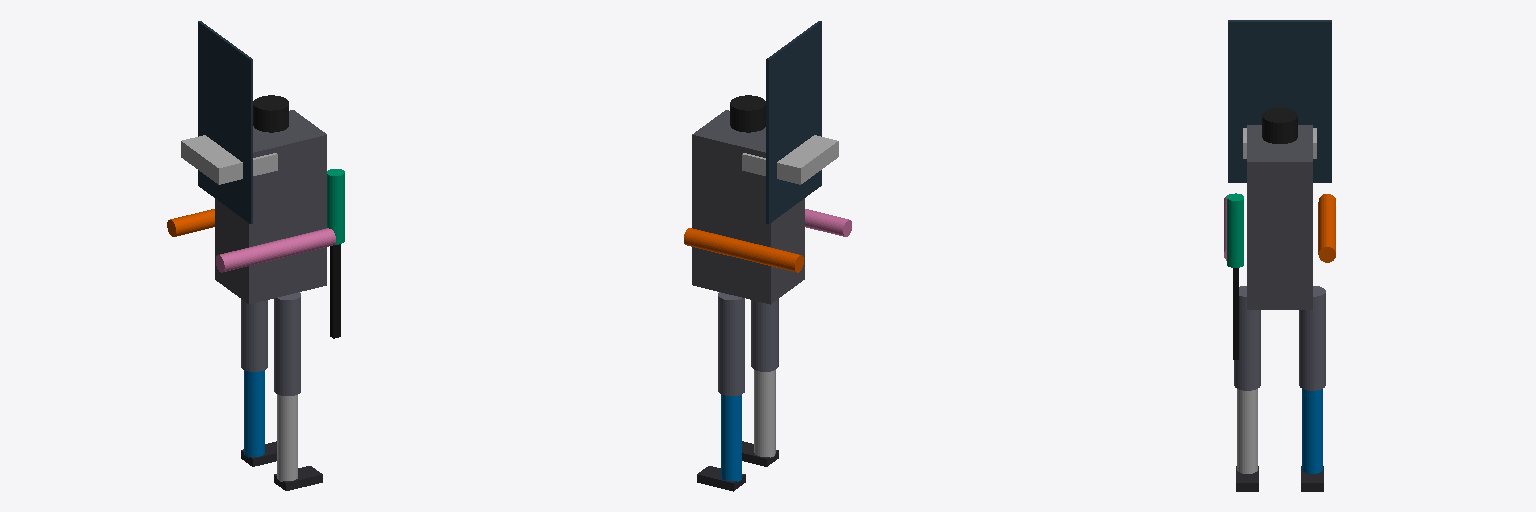
URDF robot description (acsr):
<?xml version="1.0" ?>
<!-- =================================================================================== -->
<!-- |    This document was autogenerated by xacro from src/acsr_description/urdf/acsr.urdf.xacro | -->
<!-- |    EDITING THIS FILE BY HAND IS NOT RECOMMENDED                                 | -->
<!-- =================================================================================== -->
<robot name="acsr">
  <!-- Base / torso: 1.1m tall, ~0.6m wide, holds 110kg battery low -->
  <link name="base_link">
    <inertial>
      <origin rpy="0 0 0" xyz="0 0 0.85"/>
      <mass value="150.0"/>
      <inertia ixx="12.0" ixy="0.0" ixz="0.0" iyy="12.0" iyz="0.0" izz="6.0"/>
    </inertial>
    <visual>
      <origin rpy="0 0 0" xyz="0 0 0.85"/>
      <geometry>
        <box size="0.6 0.45 1.1"/>
      </geometry>
      <material name="torso_mat">
        <color rgba="0.35 0.35 0.38 1.0"/>
      </material>
    </visual>
    <collision>
      <origin rpy="0 0 0" xyz="0 0 0.85"/>
      <geometry>
        <box size="0.6 0.45 1.1"/>
      </geometry>
    </collision>
  </link>
  <!-- Chest battery (low CoM) — fixed to base -->
  <link name="chest_battery">
    <inertial>
      <origin rpy="0 0 0" xyz="0.08 0 0.75"/>
      <mass value="110.0"/>
      <inertia ixx="4.5" ixy="0" ixz="0" iyy="4.5" iyz="0" izz="2.2"/>
    </inertial>
    <visual>
      <origin rpy="0 0 0" xyz="0.08 0 0.75"/>
      <geometry>
        <box size="0.35 0.3 0.25"/>
      </geometry>
      <material name="battery_mat">
        <color rgba="0.1 0.6 0.2 1.0"/>
      </material>
    </visual>
  </link>
  <joint name="battery_fixed" type="fixed">
    <parent link="base_link"/>
    <child link="chest_battery"/>
    <origin rpy="0 0 0" xyz="0 0 0"/>
  </joint>
  <!-- Sensor head: LiDAR + cameras — Jetson Orin mount -->
  <link name="sensor_head">
    <inertial>
      <origin rpy="0 0 0" xyz="0 0 0.08"/>
      <mass value="8.0"/>
      <inertia ixx="0.08" ixy="0" ixz="0" iyy="0.08" iyz="0" izz="0.08"/>
    </inertial>
    <visual>
      <origin rpy="0 0 0" xyz="0 0 0.08"/>
      <geometry>
        <cylinder length="0.16" radius="0.12"/>
      </geometry>
      <material name="head_mat">
        <color rgba="0.15 0.15 0.15 1.0"/>
      </material>
    </visual>
  </link>
  <joint name="head_yaw" type="revolute">
    <parent link="base_link"/>
    <child link="sensor_head"/>
    <origin rpy="0 0 0" xyz="0 0 1.45"/>
    <axis xyz="0 0 1"/>
    <limit effort="30" lower="-1.57" upper="1.57" velocity="3.0"/>
  </joint>
  <link name="left_thigh">
    <inertial>
      <origin rpy="0 0 0" xyz="0 0 -0.35"/>
      <mass value="42.0"/>
      <inertia ixx="2.8" ixy="0" ixz="0" iyy="2.8" iyz="0" izz="0.9"/>
    </inertial>
    <visual>
      <origin rpy="0 0 0" xyz="0 0 -0.35"/>
      <geometry>
        <cylinder length="0.70" radius="0.09"/>
      </geometry>
      <material name="leg_mat">
        <color rgba="0.4 0.4 0.45 1.0"/>
      </material>
    </visual>
    <collision>
      <origin rpy="0 0 0" xyz="0 0 -0.35"/>
      <geometry>
        <cylinder length="0.70" radius="0.09"/>
      </geometry>
    </collision>
  </link>
  <joint name="left_hip_pitch" type="revolute">
    <parent link="base_link"/>
    <child link="left_thigh"/>
    <origin rpy="0 0 0" xyz="0 0.22 0.30"/>
    <axis xyz="0 1 0"/>
    <limit effort="900" lower="-0.8" upper="1.2" velocity="2.0"/>
    <dynamics damping="25" friction="5"/>
  </joint>
  <link name="left_shin">
    <inertial>
      <origin rpy="0 0 0" xyz="0 0 -0.32"/>
      <mass value="28.0"/>
      <inertia ixx="1.4" ixy="0" ixz="0" iyy="1.4" iyz="0" izz="0.45"/>
    </inertial>
    <visual>
      <origin rpy="0 0 0" xyz="0 0 -0.32"/>
      <geometry>
        <cylinder length="0.64" radius="0.07"/>
      </geometry>
    </visual>
    <collision>
      <origin rpy="0 0 0" xyz="0 0 -0.32"/>
      <geometry>
        <cylinder length="0.64" radius="0.07"/>
      </geometry>
    </collision>
  </link>
  <joint name="left_knee" type="revolute">
    <parent link="left_thigh"/>
    <child link="left_shin"/>
    <origin rpy="0 0 0" xyz="0 0 -0.70"/>
    <axis xyz="0 1 0"/>
    <limit effort="900" lower="0" upper="2.2" velocity="2.2"/>
    <dynamics damping="20" friction="5"/>
  </joint>
  <link name="left_foot">
    <inertial>
      <origin rpy="0 0 0" xyz="0.08 0 -0.02"/>
      <mass value="9.0"/>
      <inertia ixx="0.12" ixy="0" ixz="0" iyy="0.20" iyz="0" izz="0.18"/>
    </inertial>
    <visual>
      <origin rpy="0 0 0" xyz="0.08 0 -0.02"/>
      <geometry>
        <box size="0.28 0.16 0.06"/>
      </geometry>
      <material name="foot_mat">
        <color rgba="0.2 0.2 0.22 1.0"/>
      </material>
    </visual>
    <collision>
      <origin rpy="0 0 0" xyz="0.08 0 -0.02"/>
      <geometry>
        <box size="0.28 0.16 0.06"/>
      </geometry>
    </collision>
  </link>
  <joint name="left_ankle" type="revolute">
    <parent link="left_shin"/>
    <child link="left_foot"/>
    <origin rpy="0 0 0" xyz="0 0 -0.64"/>
    <axis xyz="0 1 0"/>
    <limit effort="400" lower="-0.6" upper="0.6" velocity="3.0"/>
  </joint>
  <link name="right_thigh">
    <inertial>
      <origin rpy="0 0 0" xyz="0 0 -0.35"/>
      <mass value="42.0"/>
      <inertia ixx="2.8" ixy="0" ixz="0" iyy="2.8" iyz="0" izz="0.9"/>
    </inertial>
    <visual>
      <origin rpy="0 0 0" xyz="0 0 -0.35"/>
      <geometry>
        <cylinder length="0.70" radius="0.09"/>
      </geometry>
      <material name="leg_mat">
        <color rgba="0.4 0.4 0.45 1.0"/>
      </material>
    </visual>
    <collision>
      <origin rpy="0 0 0" xyz="0 0 -0.35"/>
      <geometry>
        <cylinder length="0.70" radius="0.09"/>
      </geometry>
    </collision>
  </link>
  <joint name="right_hip_pitch" type="revolute">
    <parent link="base_link"/>
    <child link="right_thigh"/>
    <origin rpy="0 0 0" xyz="0 -0.22 0.30"/>
    <axis xyz="0 1 0"/>
    <limit effort="900" lower="-0.8" upper="1.2" velocity="2.0"/>
    <dynamics damping="25" friction="5"/>
  </joint>
  <link name="right_shin">
    <inertial>
      <origin rpy="0 0 0" xyz="0 0 -0.32"/>
      <mass value="28.0"/>
      <inertia ixx="1.4" ixy="0" ixz="0" iyy="1.4" iyz="0" izz="0.45"/>
    </inertial>
    <visual>
      <origin rpy="0 0 0" xyz="0 0 -0.32"/>
      <geometry>
        <cylinder length="0.64" radius="0.07"/>
      </geometry>
    </visual>
    <collision>
      <origin rpy="0 0 0" xyz="0 0 -0.32"/>
      <geometry>
        <cylinder length="0.64" radius="0.07"/>
      </geometry>
    </collision>
  </link>
  <joint name="right_knee" type="revolute">
    <parent link="right_thigh"/>
    <child link="right_shin"/>
    <origin rpy="0 0 0" xyz="0 0 -0.70"/>
    <axis xyz="0 1 0"/>
    <limit effort="900" lower="0" upper="2.2" velocity="2.2"/>
    <dynamics damping="20" friction="5"/>
  </joint>
  <link name="right_foot">
    <inertial>
      <origin rpy="0 0 0" xyz="0.08 0 -0.02"/>
      <mass value="9.0"/>
      <inertia ixx="0.12" ixy="0" ixz="0" iyy="0.20" iyz="0" izz="0.18"/>
    </inertial>
    <visual>
      <origin rpy="0 0 0" xyz="0.08 0 -0.02"/>
      <geometry>
        <box size="0.28 0.16 0.06"/>
      </geometry>
      <material name="foot_mat">
        <color rgba="0.2 0.2 0.22 1.0"/>
      </material>
    </visual>
    <collision>
      <origin rpy="0 0 0" xyz="0.08 0 -0.02"/>
      <geometry>
        <box size="0.28 0.16 0.06"/>
      </geometry>
    </collision>
  </link>
  <joint name="right_ankle" type="revolute">
    <parent link="right_shin"/>
    <child link="right_foot"/>
    <origin rpy="0 0 0" xyz="0 0 -0.64"/>
    <axis xyz="0 1 0"/>
    <limit effort="400" lower="-0.6" upper="0.6" velocity="3.0"/>
  </joint>
  <!-- Shield: 1.2x0.7m 18kg boron-carbide — pivot arm on shoulder -->
  <link name="shield">
    <inertial>
      <origin rpy="0 0 0" xyz="0 0 0.60"/>
      <mass value="18.0"/>
      <inertia ixx="2.1" ixy="0" ixz="0" iyy="0.9" iyz="0" izz="2.4"/>
    </inertial>
    <visual>
      <origin rpy="0 0 0" xyz="0 0 0.60"/>
      <geometry>
        <box size="0.02 0.70 1.20"/>
      </geometry>
      <material name="shield_mat">
        <color rgba="0.18 0.25 0.30 1.0"/>
      </material>
    </visual>
    <collision>
      <origin rpy="0 0 0" xyz="0 0 0.60"/>
      <geometry>
        <box size="0.02 0.70 1.20"/>
      </geometry>
    </collision>
  </link>
  <joint name="shield_pivot" type="revolute">
    <parent link="base_link"/>
    <child link="shield"/>
    <origin rpy="0 0 0" xyz="-0.35 0 0.95"/>
    <axis xyz="0 1 0"/>
    <!-- 0 = stowed on back, 1.57 = deployed forward (riot brace geometry) -->
    <limit effort="250" lower="0" upper="1.70" velocity="1.5"/>
    <dynamics damping="15" friction="2"/>
  </joint>
  <!-- Arms / weapons TF -->
  <link name="right_arm">
    <inertial>
      <mass value="18.0"/>
      <inertia ixx="0.6" ixy="0" ixz="0" iyy="0.6" iyz="0" izz="0.3"/>
      <origin xyz="0 0 -0.25"/>
    </inertial>
    <visual>
      <origin xyz="0 0 -0.25"/>
      <geometry>
        <cylinder length="0.50" radius="0.06"/>
      </geometry>
    </visual>
  </link>
  <joint name="right_shoulder" type="revolute">
    <parent link="base_link"/>
    <child link="right_arm"/>
    <origin rpy="0 0 0" xyz="0.32 -0.30 1.15"/>
    <axis xyz="0 1 0"/>
    <limit effort="300" lower="-0.5" upper="1.8" velocity="2.0"/>
  </joint>
  <link name="rifle">
    <inertial>
      <mass value="4.2"/>
      <inertia ixx="0.04" ixy="0" ixz="0" iyy="0.04" iyz="0" izz="0.02"/>
      <origin xyz="0 0 0"/>
    </inertial>
    <visual>
      <origin xyz="0.35 0 0"/>
      <geometry>
        <box size="0.70 0.04 0.06"/>
      </geometry>
      <material name="rifle_mat">
        <color rgba="0.12 0.12 0.12 1.0"/>
      </material>
    </visual>
  </link>
  <joint name="rifle_fixed" type="fixed">
    <parent link="right_arm"/>
    <child link="rifle"/>
    <origin rpy="0 1.57 0" xyz="0 0 -0.50"/>
  </joint>
  <!-- 40mm launcher underslung TF -->
  <link name="launcher">
    <inertial>
      <mass value="1.8"/>
      <inertia ixx="0.01" ixy="0" ixz="0" iyy="0.01" iyz="0" izz="0.01"/>
      <origin xyz="0 0 0"/>
    </inertial>
  </link>
  <joint name="launcher_fixed" type="fixed">
    <parent link="rifle"/>
    <child link="launcher"/>
    <origin rpy="0 0 0" xyz="0.10 0 -0.04"/>
  </joint>
  <!-- Missile pylons (Spike SR 4kg each, x2) -->
  <link name="missile_left">
    <inertial>
      <mass value="4.0"/>
      <inertia ixx="0.03" ixy="0" ixz="0" iyy="0.03" iyz="0" izz="0.02"/>
      <origin xyz="0 0 0"/>
    </inertial>
    <visual>
      <origin xyz="0 0 0"/>
      <geometry>
        <cylinder length="0.85" radius="0.06"/>
      </geometry>
    </visual>
  </link>
  <joint name="missile_left_fixed" type="fixed">
    <parent link="base_link"/>
    <child link="missile_left"/>
    <origin rpy="0 1.57 0" xyz="-0.15 0.32 0.70"/>
  </joint>
  <link name="missile_right">
    <inertial>
      <mass value="4.0"/>
      <inertia ixx="0.03" ixy="0" ixz="0" iyy="0.03" iyz="0" izz="0.02"/>
      <origin xyz="0 0 0"/>
    </inertial>
    <visual>
      <origin xyz="0 0 0"/>
      <geometry>
        <cylinder length="0.85" radius="0.06"/>
      </geometry>
    </visual>
  </link>
  <joint name="missile_right_fixed" type="fixed">
    <parent link="base_link"/>
    <child link="missile_right"/>
    <origin rpy="0 1.57 0" xyz="-0.15 -0.32 0.70"/>
  </joint>
  <!-- Drone bay (2x 6kg fold-flat fixed-wing) -->
  <link name="drone_bay">
    <inertial>
      <mass value="12.0"/>
      <inertia ixx="0.4" ixy="0" ixz="0" iyy="0.4" iyz="0" izz="0.2"/>
      <origin xyz="0 0 0"/>
    </inertial>
    <visual>
      <origin xyz="0 0 0"/>
      <geometry>
        <box size="0.45 0.50 0.12"/>
      </geometry>
    </visual>
  </link>
  <joint name="drone_bay_fixed" type="fixed">
    <parent link="base_link"/>
    <child link="drone_bay"/>
    <origin rpy="0 0 0" xyz="-0.32 0 1.30"/>
  </joint>
  <!-- Gazebo plugins (ros2_control + sensors) -->
  <gazebo>
    <plugin filename="libgz_ros2_control-system.so" name="gz_ros2_control">
      <parameters>config/ros2_controllers.yaml</parameters>
    </plugin>
  </gazebo>
  <!-- Sensor head: camera + lidar (gz sensors) -->
  <gazebo reference="sensor_head">
    <sensor name="head_camera" type="camera">
      <camera>
        <image>
          <width>1280</width>
          <height>720</height>
        </image>
        <clip>
          <near>0.1</near>
          <far>80</far>
        </clip>
      </camera>
      <always_on>true</always_on>
      <update_rate>30</update_rate>
      <topic>/camera/image_raw</topic>
      <gz:topic xmlns:gz="http://gazebosim.org/schema">/camera/image_raw</gz:topic>
    </sensor>
    <sensor name="head_lidar" type="gpu_lidar">
      <lidar>
        <scan>
          <horizontal>
            <samples>1024</samples>
            <min_angle>-1.5708</min_angle>
            <max_angle>1.5708</max_angle>
          </horizontal>
        </scan>
        <range>
          <min>0.2</min>
          <max>60</max>
        </range>
      </lidar>
      <always_on>true</always_on>
      <update_rate>10</update_rate>
      <topic>/lidar/points</topic>
    </sensor>
  </gazebo>
  <gazebo reference="shield">
    <material>Gazebo/DarkGrey</material>
  </gazebo>
</robot>

--- What the picture shows (computed from the rendered views, not written in the file) ---
The picture shows the robot from 3 angles, left to right: view 1: azimuth 30°, elevation 25°; view 2: azimuth 150°, elevation 25°; view 3: azimuth 270°, elevation 25°; orthographic projection.
Model acsr with 16 links and 15 joints (9 revolute, 6 fixed), rooted at base_link, posed every joint at zero.
Links seen in each view (by area): view 1: base_link, shield, right_thigh, drone_bay, missile_right, left_thigh, left_shin, right_shin, sensor_head, right_arm, rifle, missile_left (+1 smaller); view 2: base_link, shield, left_thigh, drone_bay, missile_left, right_thigh, right_shin, left_shin, sensor_head, missile_right, left_foot; view 3: shield, base_link, left_thigh, right_thigh, left_shin, right_shin, right_arm, sensor_head, missile_left, rifle.
Link boxes in pixels (<box>): base_link: <box>215,110,326,303</box>; shield: <box>198,21,252,223</box>; right_thigh: <box>274,292,300,395</box>; drone_bay: <box>181,135,277,184</box>; missile_right: <box>216,228,335,272</box>; left_thigh: <box>241,299,267,371</box>; left_shin: <box>244,370,264,457</box>; right_shin: <box>277,394,297,481</box>; sensor_head: <box>253,95,288,132</box>; right_arm: <box>327,169,344,244</box>; rifle: <box>330,244,340,338</box>; missile_left: <box>167,209,214,236</box>; base_link: <box>692,110,804,304</box>; shield: <box>766,21,821,223</box>; left_thigh: <box>718,292,744,395</box>; drone_bay: <box>742,135,838,184</box>; missile_left: <box>684,228,803,272</box>; right_thigh: <box>751,299,778,371</box>; right_shin: <box>754,370,775,457</box>; left_shin: <box>721,394,741,481</box>; sensor_head: <box>730,95,765,132</box>; missile_right: <box>805,209,851,236</box>; left_foot: <box>697,466,745,491</box>; shield: <box>1228,20,1331,182</box>; base_link: <box>1247,125,1312,309</box>; left_thigh: <box>1299,286,1325,390</box>; right_thigh: <box>1234,286,1260,390</box>; left_shin: <box>1302,389,1322,473</box>; right_shin: <box>1237,389,1257,473</box>; right_arm: <box>1227,193,1243,267</box>; sensor_head: <box>1262,108,1297,143</box>; missile_left: <box>1318,194,1335,262</box>; rifle: <box>1233,268,1238,359</box>.
Bounding box of the posed robot: 0.955 × 0.76 × 3.24 m (x, y, z).
Geometry: primitives only (box / cylinder / sphere), no mesh files.
